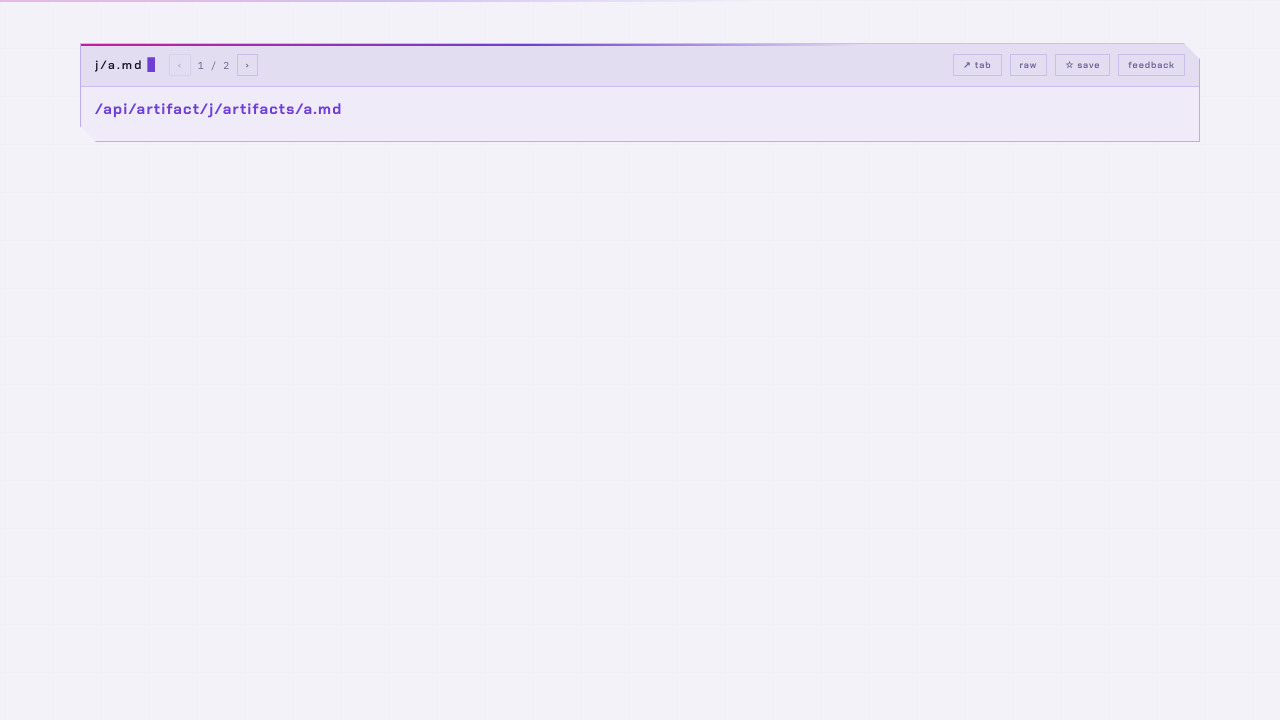
Test case: stepping › resets raw mode and the cached text — via the › button
Click the button "raw": (1028,65) [1010, 54, 1047, 76]
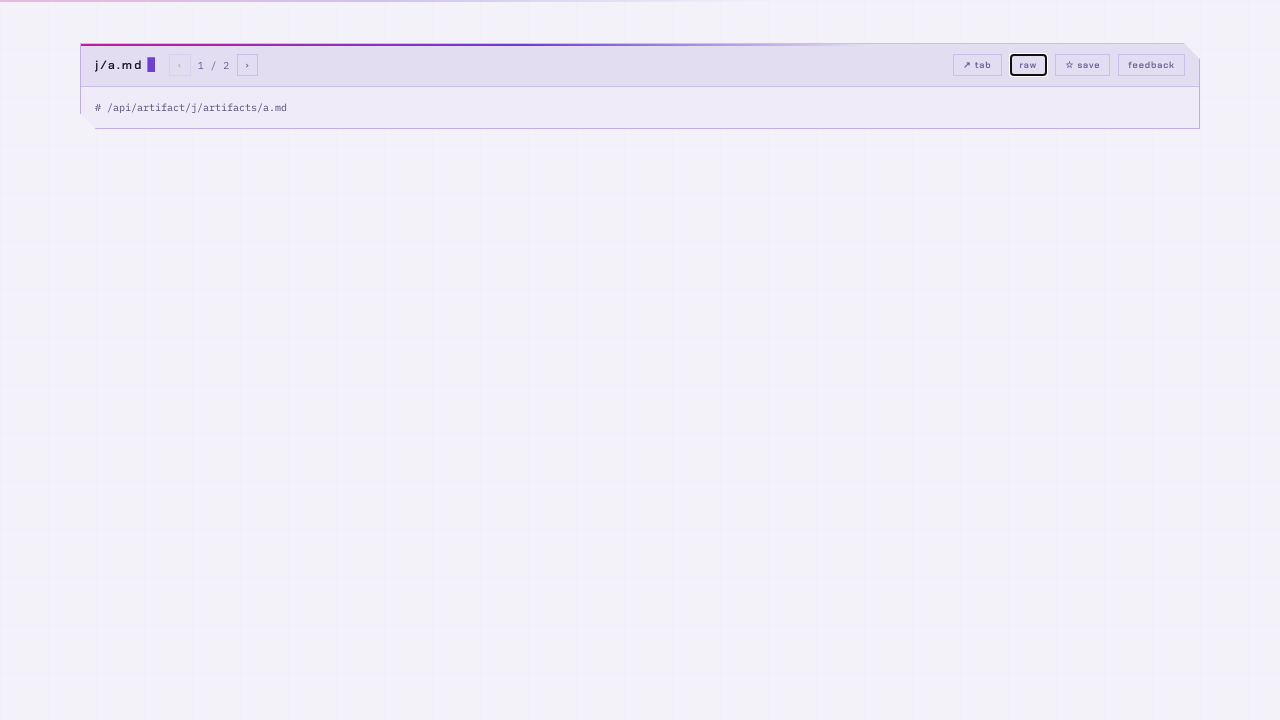
Expected: the text "# /api/artifact/j/artifacts/a.md" is shown, [95, 101, 287, 114]
Expected: the text "# /api/artifact/j/artifacts/a.md" has class "raw", [95, 101, 287, 114]
Click the button "›": (247,65) [237, 54, 258, 76]
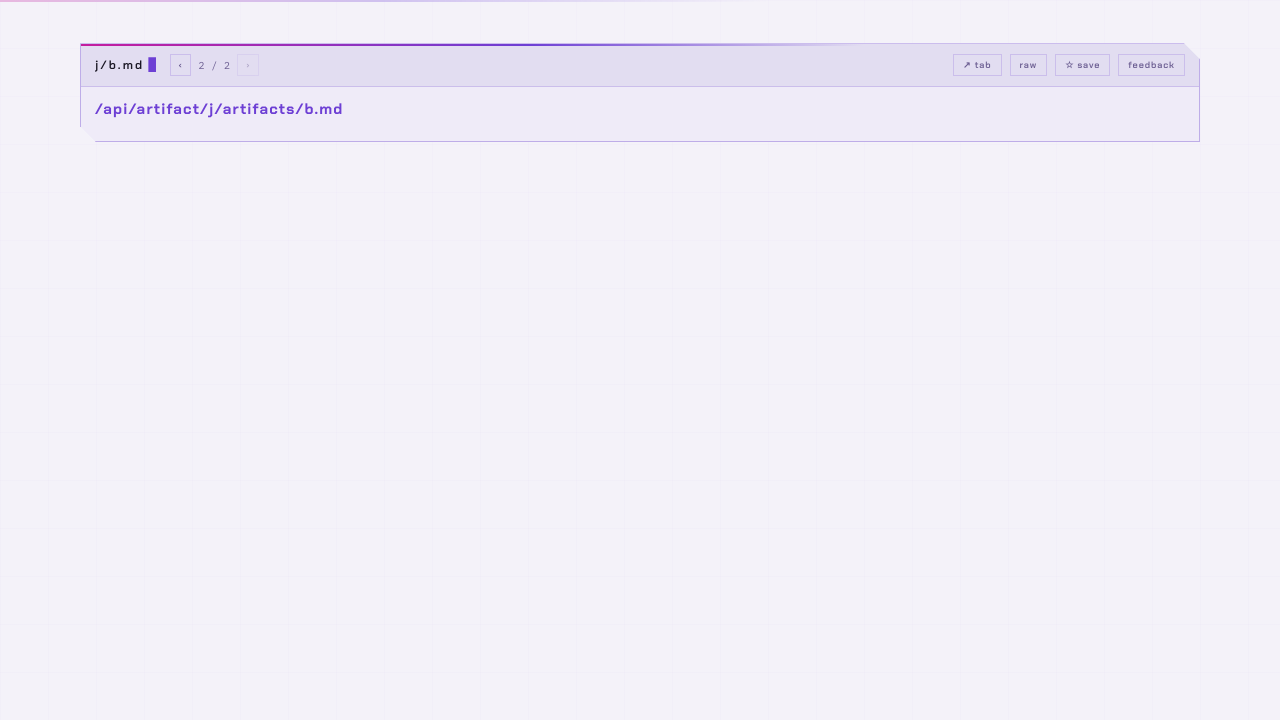
Expected: the text "j/b.md" is shown, [95, 57, 160, 73]
Expected: the element showing "/api/artifact/j/artifacts/b.md" is shown, [95, 99, 344, 119]
Expected: the text "a.md" is gone
